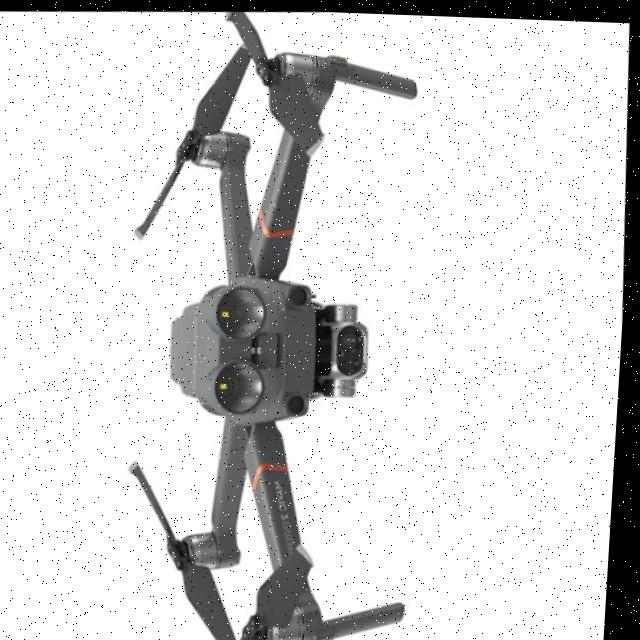drones: (88, 3, 474, 640)
